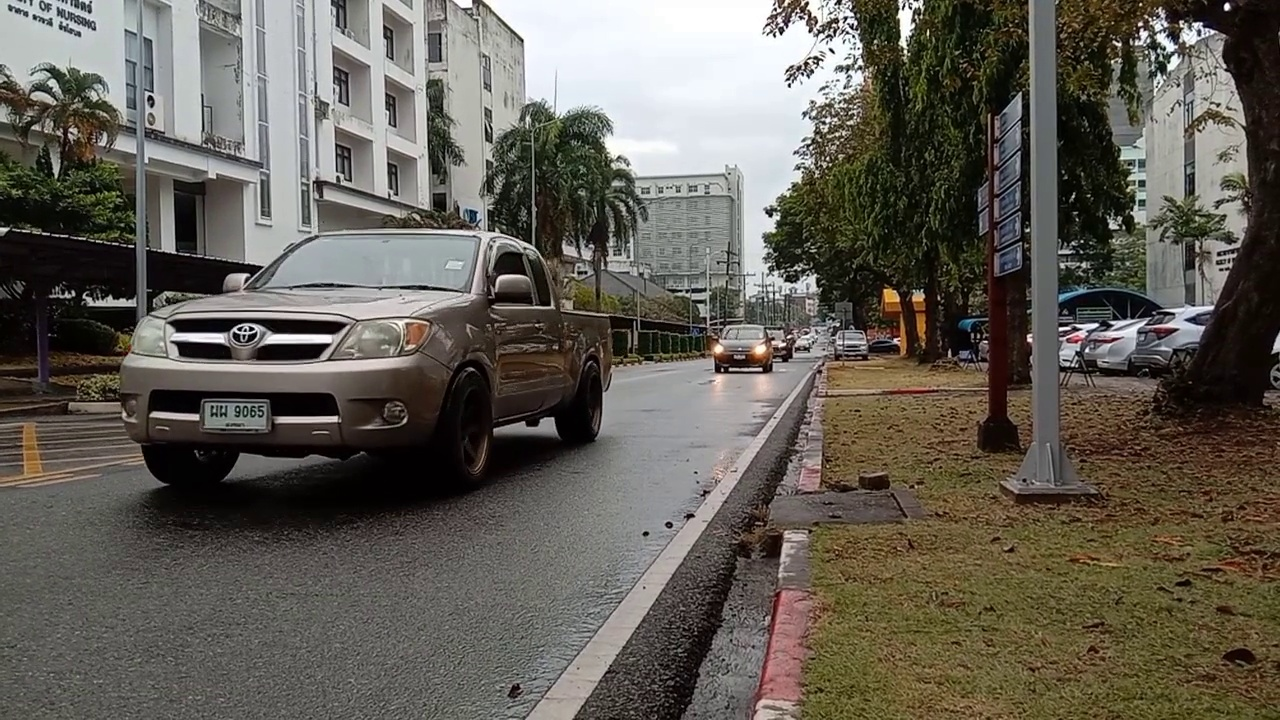License Plate: (200, 400, 270, 433)
